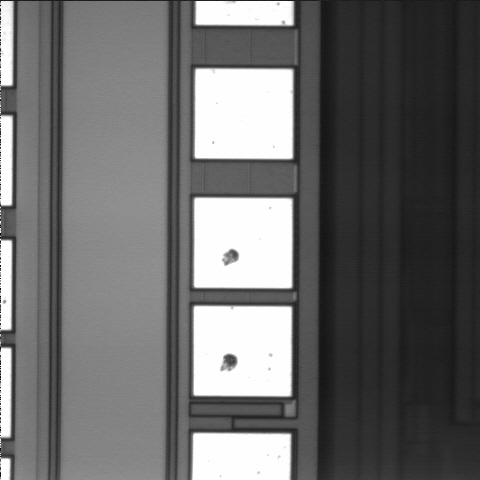pad: (195, 69, 293, 159), (194, 198, 292, 288), (194, 306, 292, 396)
